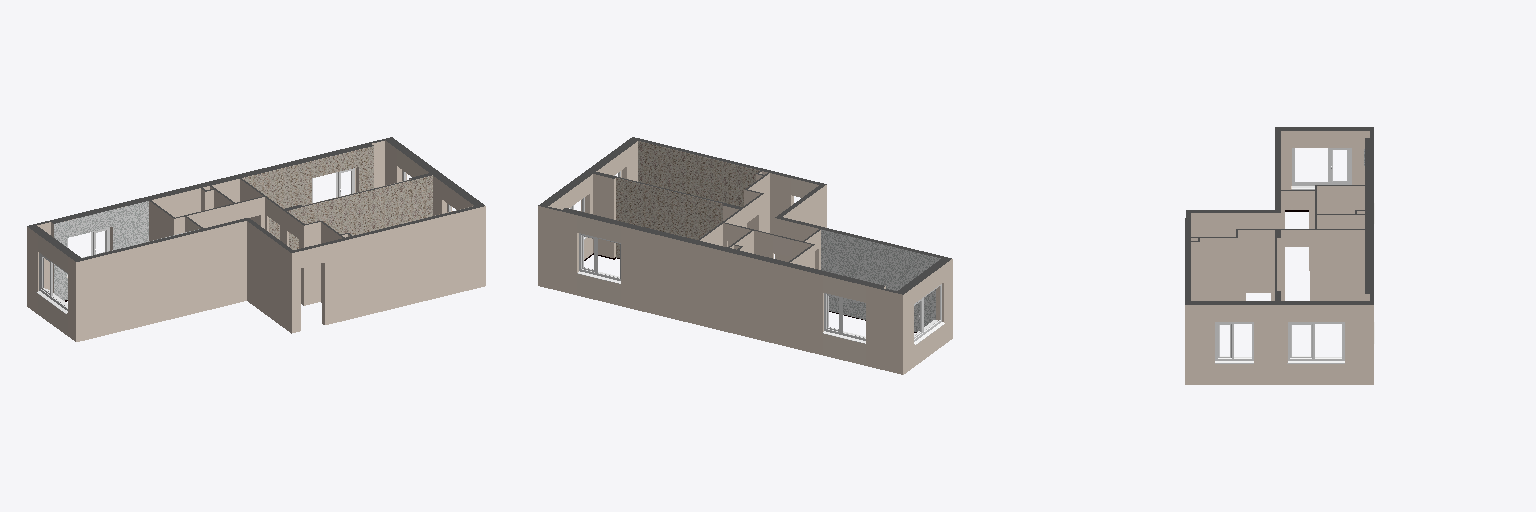
3 renders of one model, left to right at view 1: azimuth 30°, elevation 25°; view 2: azimuth 150°, elevation 25°; view 3: azimuth 270°, elevation 25°, orthographic.
Parts seen in each view (by area): view 1: walls, Object7860, wall_ghost, wall_spalnya_2, rama_okna2; view 2: walls, wall_spalnya, Object7861, wall_ghost2, rama_okna5, rama_okna1, rama_okna2; view 3: walls, rama_okna4, rama_okna2, rama_okna3.
Part boxes in pixels (x1,y1,x2,y2): walls: (27,137,485,341); Object7860: (287,176,432,249); wall_ghost: (242,146,373,239); wall_spalnya_2: (54,201,148,300); rama_okna2: (36,253,67,313); walls: (538,137,952,374); wall_spalnya: (821,229,940,331); Object7861: (638,141,758,206); wall_ghost2: (616,178,723,257); rama_okna5: (577,233,620,283); rama_okna1: (823,293,865,343); rama_okna2: (914,284,944,344); walls: (1185,127,1373,384); rama_okna4: (1287,322,1344,363); rama_okna2: (1292,148,1351,189); rama_okna3: (1215,322,1253,363).
Size of the model in its own units: 671 by 140 by 299.
Materials: 8 (2 with a texture image).